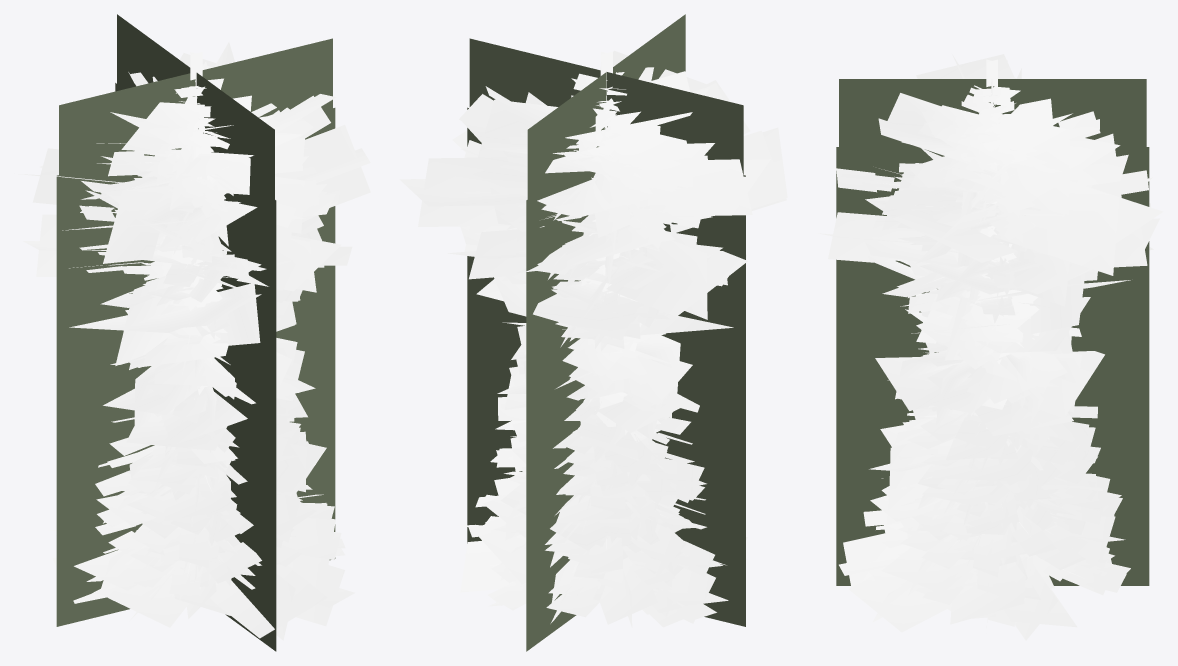
The model's file is trees.glb.
3 views of the same model, side by side, from view 1: azimuth 30°, elevation 25°; view 2: azimuth 150°, elevation 25°; view 3: azimuth 270°, elevation 25° (orthographic). The views are drawn at different scales.
Parts seen in each view (by area): view 1: pine_a_2, pine_a_1, fir_a_1, fir_a_2, pine_a_0, fir_a_0, fir_b_2, dead_a_2, fir_b_1, fir_b_0; view 2: pine_a_2, pine_a_1, fir_a_1, fir_a_2, fir_a_0, pine_a_0, fir_b_2, fir_b_1, dead_a_2, fir_b_0; view 3: pine_a_1, fir_a_1, fir_a_2, fir_a_0, pine_a_2, pine_a_0, fir_b_1, dead_a_2, fir_b_0, fir_b_2.
Part boxes in pixels (left/top/right/bottom): pine_a_2: left=59, top=14, right=332, bottom=650; pine_a_1: left=14, top=42, right=370, bottom=365; fir_a_1: left=48, top=176, right=354, bottom=640; fir_a_2: left=56, top=83, right=335, bottom=651; pine_a_0: left=69, top=52, right=352, bottom=344; fir_a_0: left=56, top=128, right=345, bottom=600; fir_b_2: left=97, top=281, right=294, bottom=634; dead_a_2: left=86, top=257, right=305, bottom=619; fir_b_1: left=122, top=358, right=307, bottom=618; fir_b_0: left=103, top=386, right=296, bottom=586; pine_a_2: left=469, top=14, right=743, bottom=650; pine_a_1: left=399, top=50, right=787, bottom=354; fir_a_1: left=457, top=233, right=747, bottom=627; fir_a_2: left=467, top=107, right=745, bottom=651; fir_a_0: left=468, top=127, right=722, bottom=627; pine_a_0: left=461, top=51, right=757, bottom=351; fir_b_2: left=507, top=311, right=705, bottom=616; fir_b_1: left=489, top=342, right=692, bottom=623; dead_a_2: left=496, top=287, right=716, bottom=618; fir_b_0: left=563, top=342, right=683, bottom=600; pine_a_1: left=818, top=54, right=1163, bottom=360; fir_a_1: left=839, top=202, right=1125, bottom=640; fir_a_2: left=836, top=147, right=1149, bottom=585; fir_a_0: left=863, top=201, right=1130, bottom=626; pine_a_2: left=839, top=79, right=1146, bottom=585; pine_a_0: left=836, top=59, right=1152, bottom=353; fir_b_1: left=881, top=352, right=1111, bottom=599; dead_a_2: left=869, top=264, right=1116, bottom=585; fir_b_0: left=897, top=359, right=1079, bottom=566; fir_b_2: left=881, top=289, right=1103, bottom=585.
Bounding box in the file's own units: 14.4 × 23.4 × 13.92.
